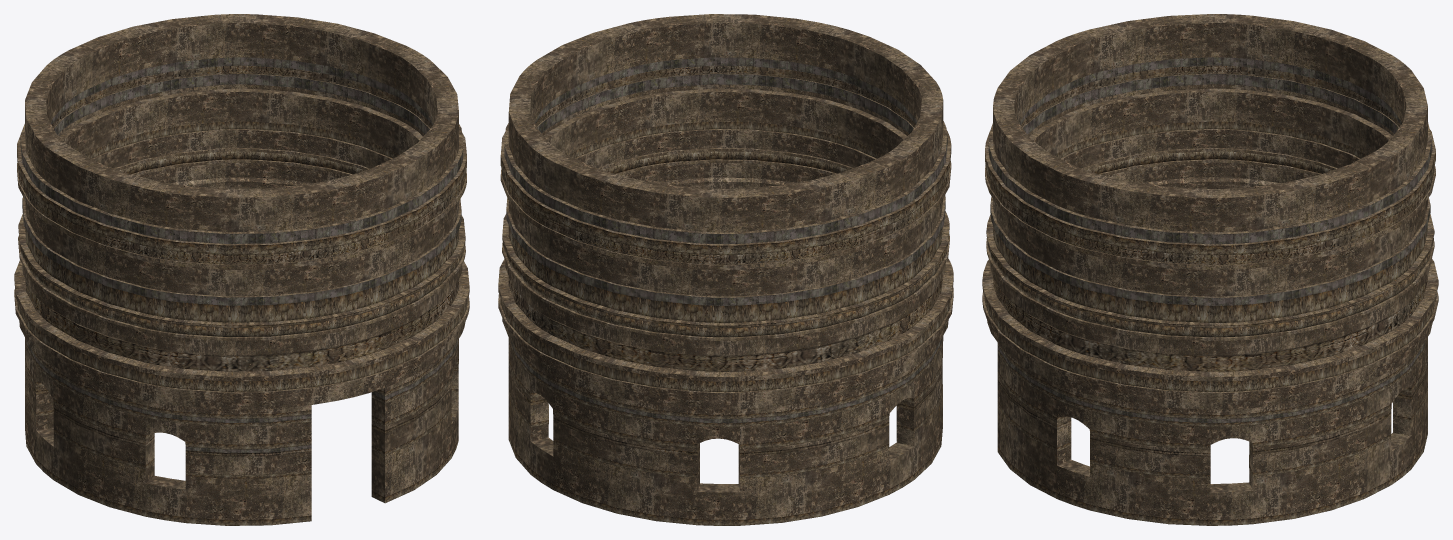
File: materials_5_wall_cylinder_1.fbx
The picture shows the model from 3 angles, left to right: view 1: azimuth 30°, elevation 25°; view 2: azimuth 150°, elevation 25°; view 3: azimuth 270°, elevation 25°; orthographic projection.
Parts seen in each view (by area): view 1: materials_5_wall_cylinder_1; view 2: materials_5_wall_cylinder_1; view 3: materials_5_wall_cylinder_1.
Part boxes in pixels (bbox=[...]): materials_5_wall_cylinder_1: bbox=[14, 14, 469, 525]; materials_5_wall_cylinder_1: bbox=[498, 14, 953, 525]; materials_5_wall_cylinder_1: bbox=[982, 14, 1438, 525].
Size of the model in its own units: 695 by 551 by 694.
